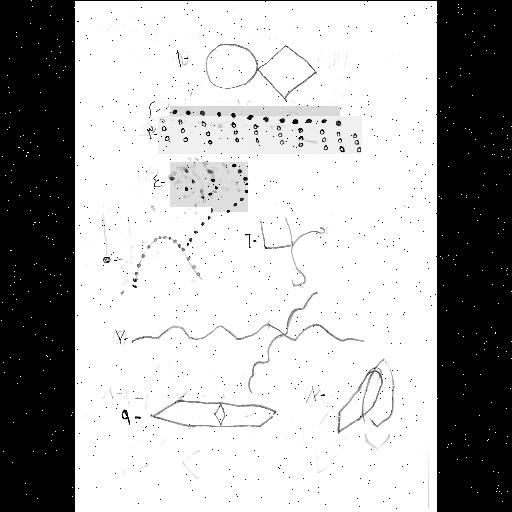shape-1: (204, 40, 318, 100)
shape-2: (170, 106, 340, 126)
shape-3: (158, 116, 362, 154)
shape-4: (170, 162, 248, 212)
shape-5: (258, 216, 326, 286)
shape-6: (134, 207, 212, 289)
shape-7: (130, 288, 364, 394)
shape-8: (340, 358, 394, 434)
shape-9: (152, 398, 274, 428)
